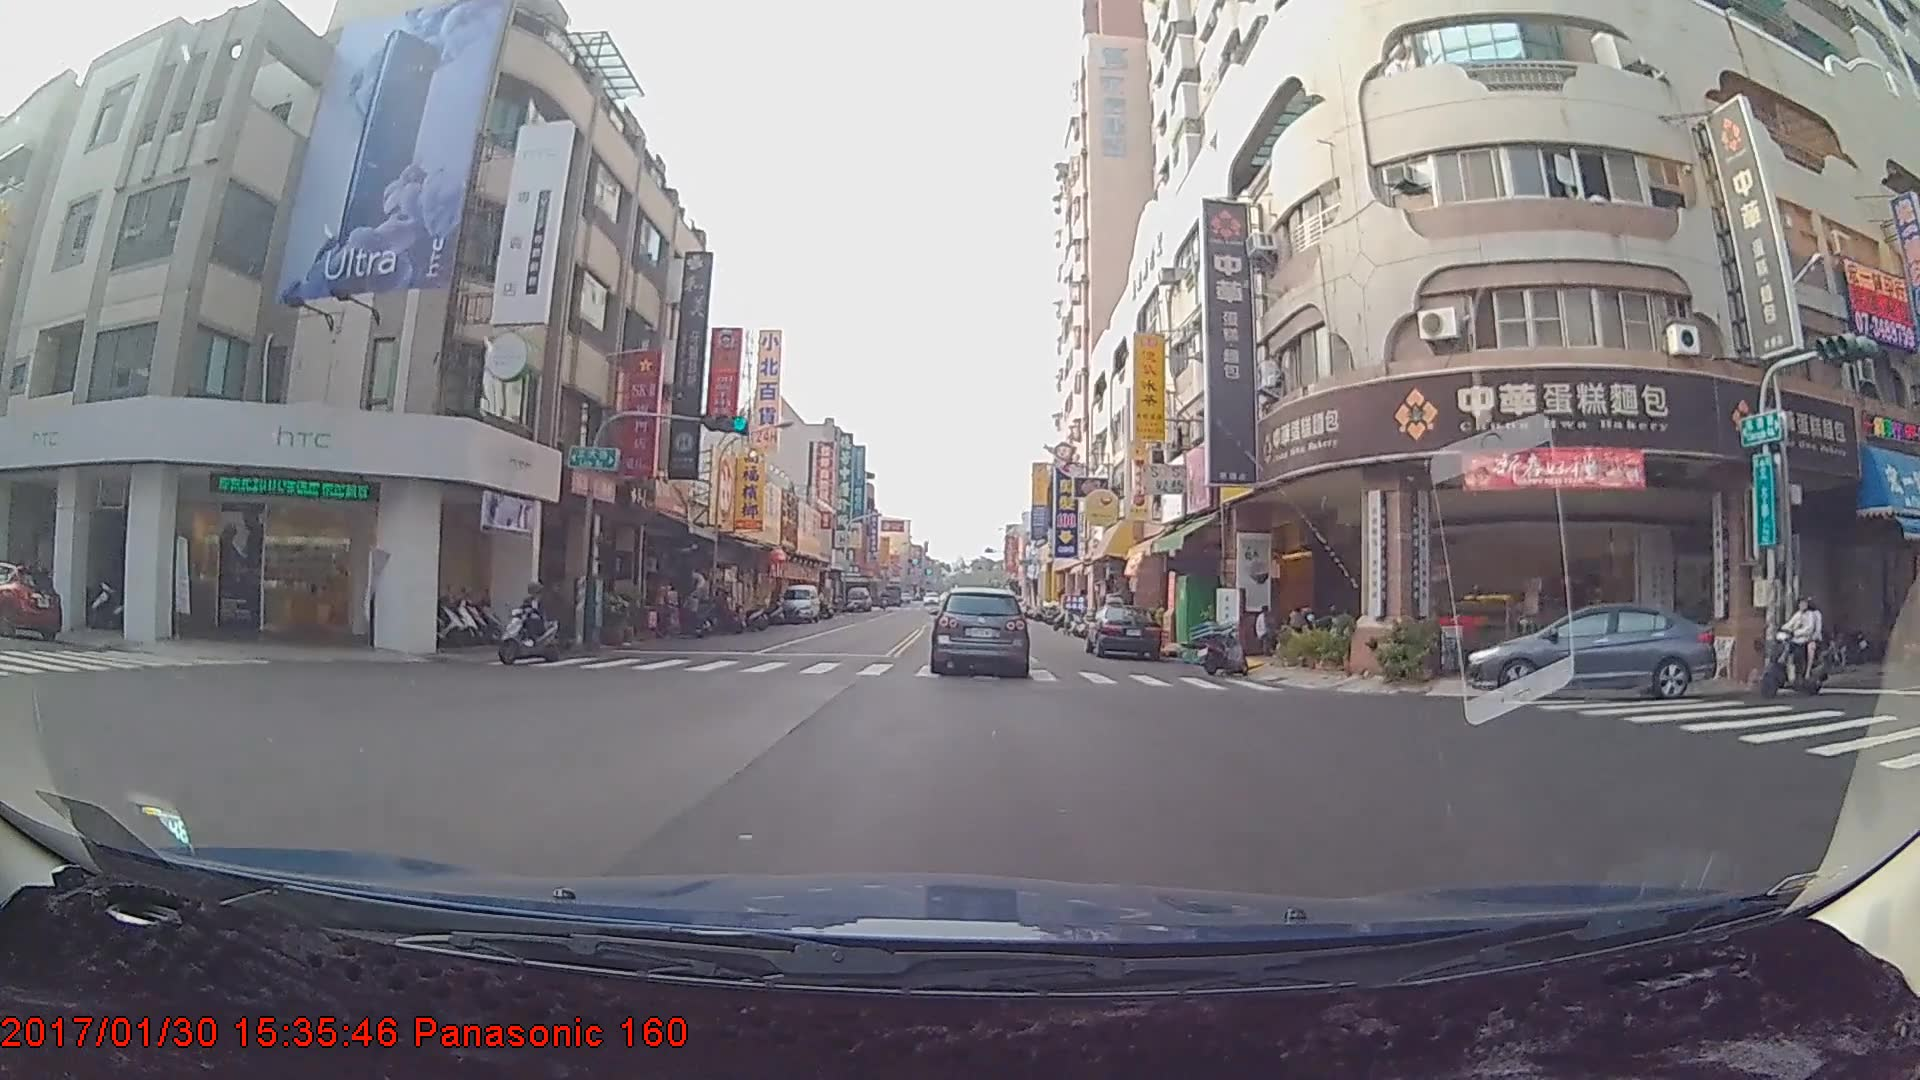pedestrian: (1245, 597, 1273, 652)
rider: (1753, 595, 1829, 698), (491, 569, 569, 663)
vehicle: (1458, 605, 1709, 701), (930, 585, 1029, 675), (0, 562, 68, 641), (1086, 604, 1161, 661), (781, 585, 820, 625), (844, 588, 871, 616)
